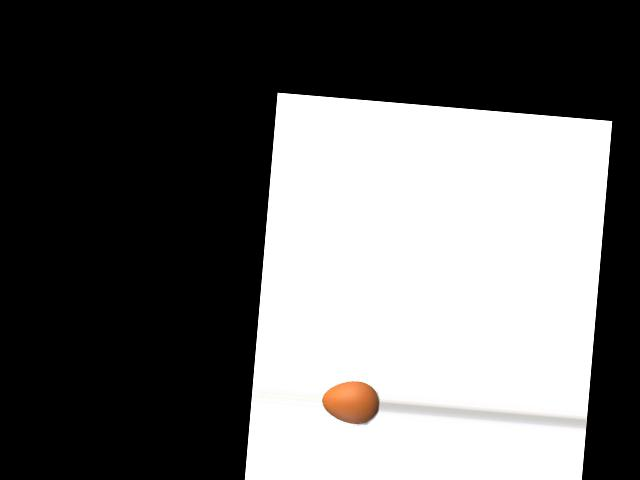egg: (321, 379, 380, 426)
